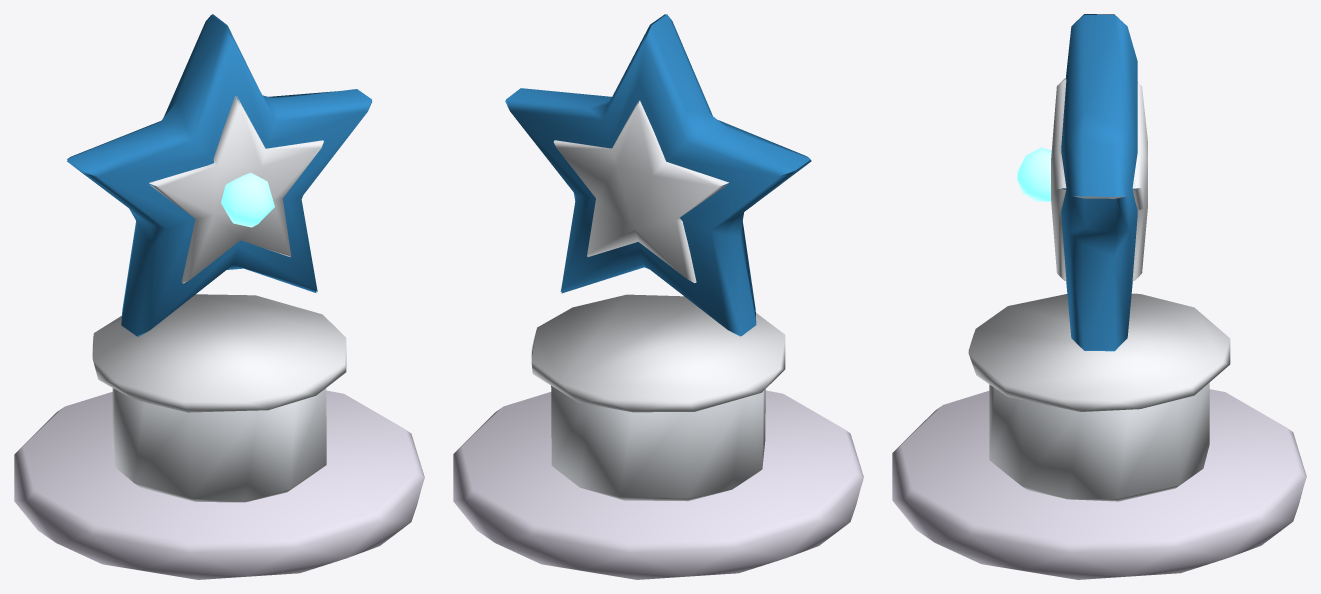
File: lod_pop_sculpture.glb
3 renders of one model, left to right at view 1: azimuth 30°, elevation 25°; view 2: azimuth 150°, elevation 25°; view 3: azimuth 270°, elevation 25°, orthographic.
Visible parts, largest first — view 1: pop_sculpture; view 2: pop_sculpture; view 3: pop_sculpture.
Boxes of the visible parts, left/top/right/bottom form: pop_sculpture: left=14, top=14, right=424, bottom=579; pop_sculpture: left=453, top=14, right=863, bottom=579; pop_sculpture: left=892, top=14, right=1306, bottom=579.
Size of the model in its own units: 2.99 by 3.84 by 2.99.
